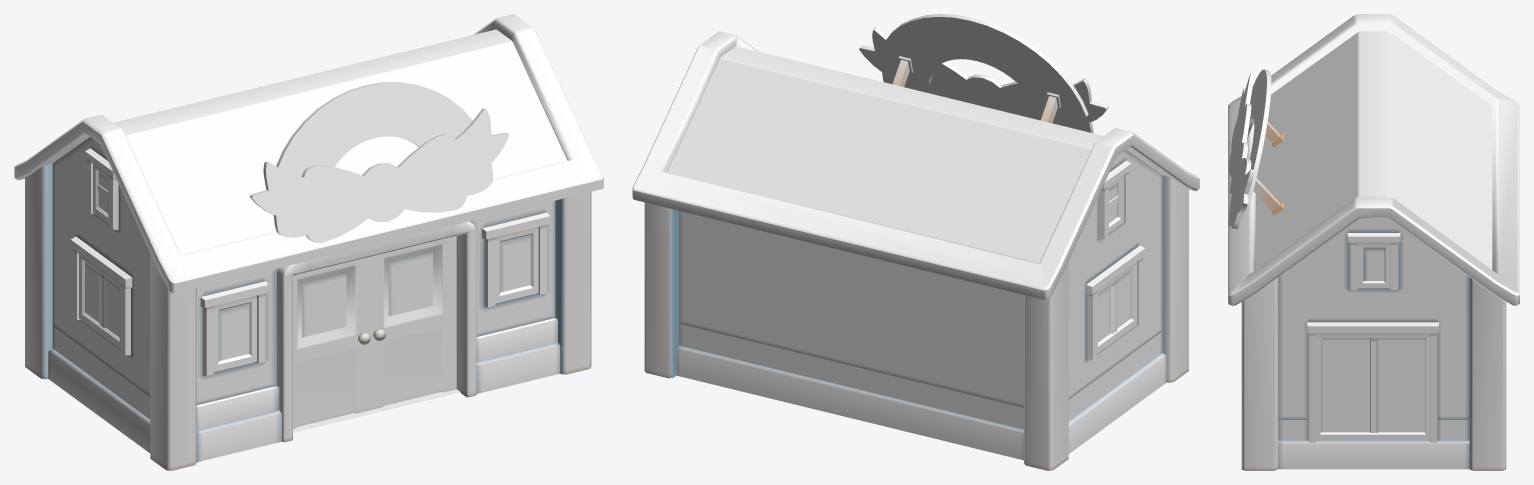
The model's file is vermilion-fan-club.glb.
3 views of the same model, side by side, from view 1: azimuth 30°, elevation 25°; view 2: azimuth 150°, elevation 25°; view 3: azimuth 270°, elevation 25° (orthographic). The views are drawn at different scales.
Visible parts, largest first — view 1: vermilion-fan-club; view 2: vermilion-fan-club; view 3: vermilion-fan-club.
Boxes of the visible parts, bbox=[...] form: vermilion-fan-club: bbox=[14, 14, 603, 470]; vermilion-fan-club: bbox=[632, 14, 1199, 470]; vermilion-fan-club: bbox=[1228, 14, 1519, 470].
Bounding box in the file's own units: 5 × 3.57 × 3.2.
